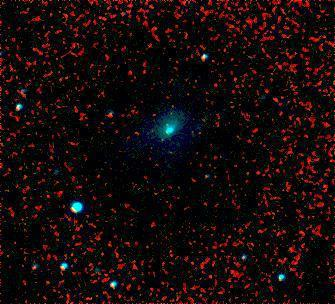star: (149, 126, 179, 156)
